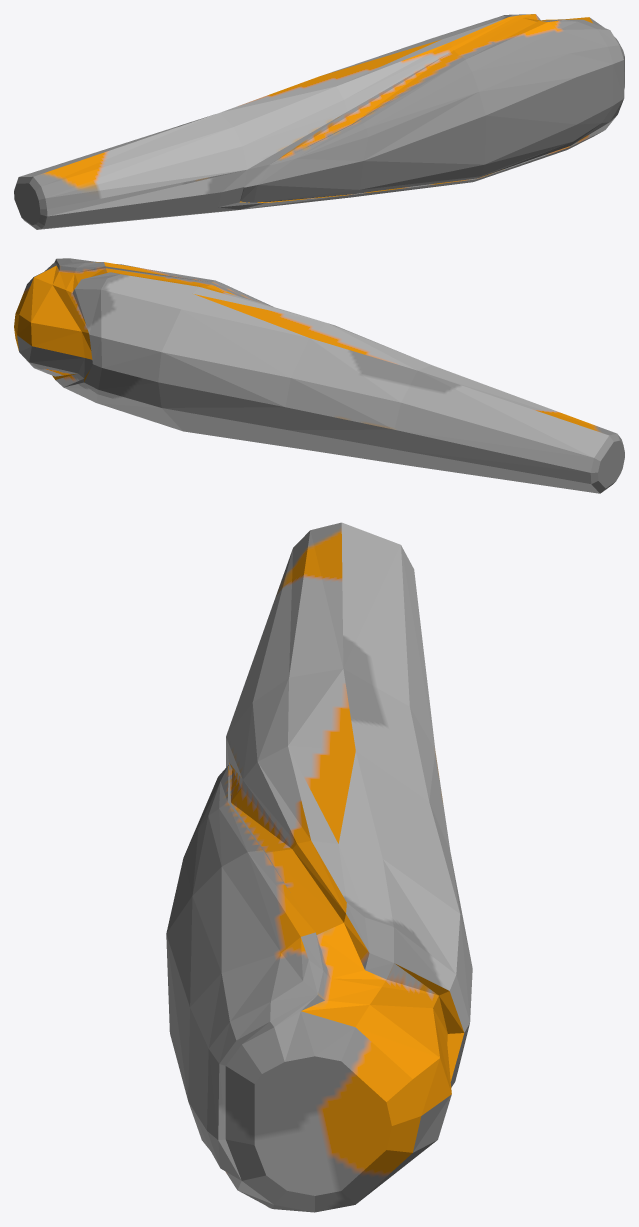
File: RightForearm.obj
3 renders of one model, top to bottom at view 1: azimuth 30°, elevation 25°; view 2: azimuth 150°, elevation 25°; view 3: azimuth 270°, elevation 25°, orthographic. The views are drawn at different scales.
Parts seen in each view (by area): view 1: RightForearm_Mesh.478; view 2: RightForearm_Mesh.478; view 3: RightForearm_Mesh.478.
Boxes of the visible parts, x1,y1,x2,y2 form: RightForearm_Mesh.478: [14, 14, 624, 229]; RightForearm_Mesh.478: [14, 258, 624, 493]; RightForearm_Mesh.478: [166, 522, 472, 1212].
Bounding box in the file's own units: 0.3043 × 0.0673 × 0.0703.
1 material, 1 textured.
